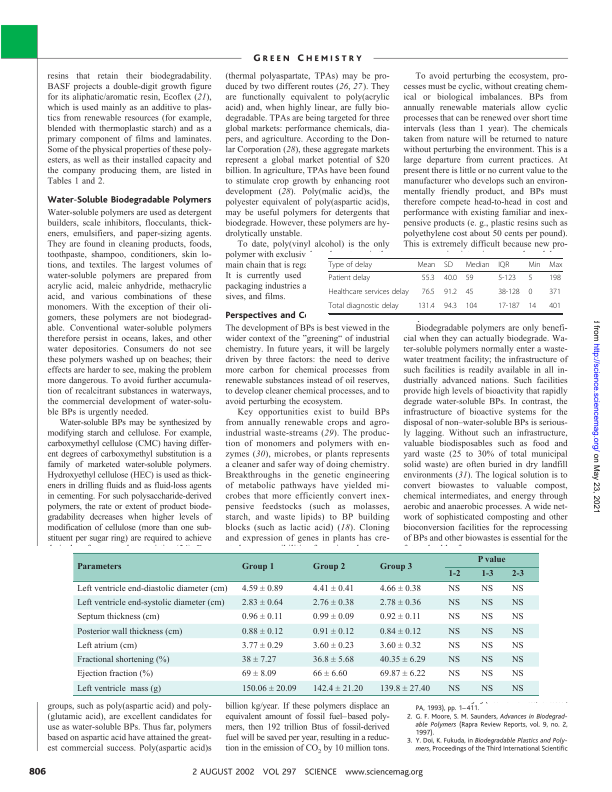borderless: (72, 551, 539, 695), (327, 257, 562, 313)
cell: (75, 584, 228, 594), (75, 598, 225, 608), (75, 627, 183, 637), (75, 655, 170, 665), (75, 612, 160, 623), (75, 684, 161, 694), (75, 669, 153, 680), (328, 288, 410, 298), (328, 302, 400, 312), (75, 641, 137, 651), (241, 684, 297, 694), (379, 669, 426, 680), (312, 684, 363, 694), (379, 684, 430, 694), (379, 655, 426, 665), (241, 612, 283, 623), (312, 612, 354, 623), (379, 612, 421, 623), (76, 563, 122, 573), (328, 274, 371, 284), (241, 584, 283, 594), (312, 584, 354, 594), (379, 584, 421, 594), (241, 598, 283, 608), (312, 598, 354, 608), (379, 598, 421, 608), (241, 627, 283, 637), (312, 627, 354, 637), (379, 627, 421, 637), (241, 641, 283, 651), (312, 641, 354, 651), (379, 641, 421, 651), (312, 655, 354, 665), (328, 261, 373, 270), (241, 669, 277, 680), (312, 669, 348, 680), (241, 655, 277, 665), (378, 563, 413, 573), (241, 563, 275, 573), (312, 563, 346, 573), (476, 556, 506, 566), (497, 288, 521, 298), (497, 302, 521, 312), (465, 261, 490, 270), (497, 274, 517, 284), (417, 302, 436, 312), (416, 261, 436, 270), (447, 612, 461, 623), (480, 612, 494, 623), (447, 669, 461, 680), (480, 669, 494, 680), (421, 274, 436, 284), (443, 274, 458, 284), (421, 288, 436, 298), (443, 288, 458, 298), (443, 302, 458, 312), (511, 612, 524, 623), (511, 669, 524, 680), (447, 570, 461, 580), (480, 570, 494, 580), (510, 570, 524, 580), (447, 584, 461, 594), (480, 584, 494, 594), (447, 598, 461, 608), (480, 598, 494, 608), (447, 627, 461, 637), (480, 627, 494, 637), (447, 641, 461, 651), (480, 641, 494, 651), (447, 655, 461, 665), (480, 655, 494, 665), (447, 684, 461, 694), (480, 684, 494, 694), (548, 274, 562, 284), (548, 288, 562, 298), (548, 302, 562, 312), (548, 261, 563, 270), (511, 584, 524, 594), (511, 598, 524, 608), (511, 627, 524, 637), (511, 641, 524, 651), (511, 655, 524, 665), (511, 684, 524, 694), (465, 302, 478, 312), (527, 261, 541, 270), (497, 261, 510, 270), (527, 302, 537, 312), (443, 261, 454, 270), (465, 274, 474, 284), (465, 288, 474, 298), (527, 274, 533, 284), (527, 288, 533, 298)
